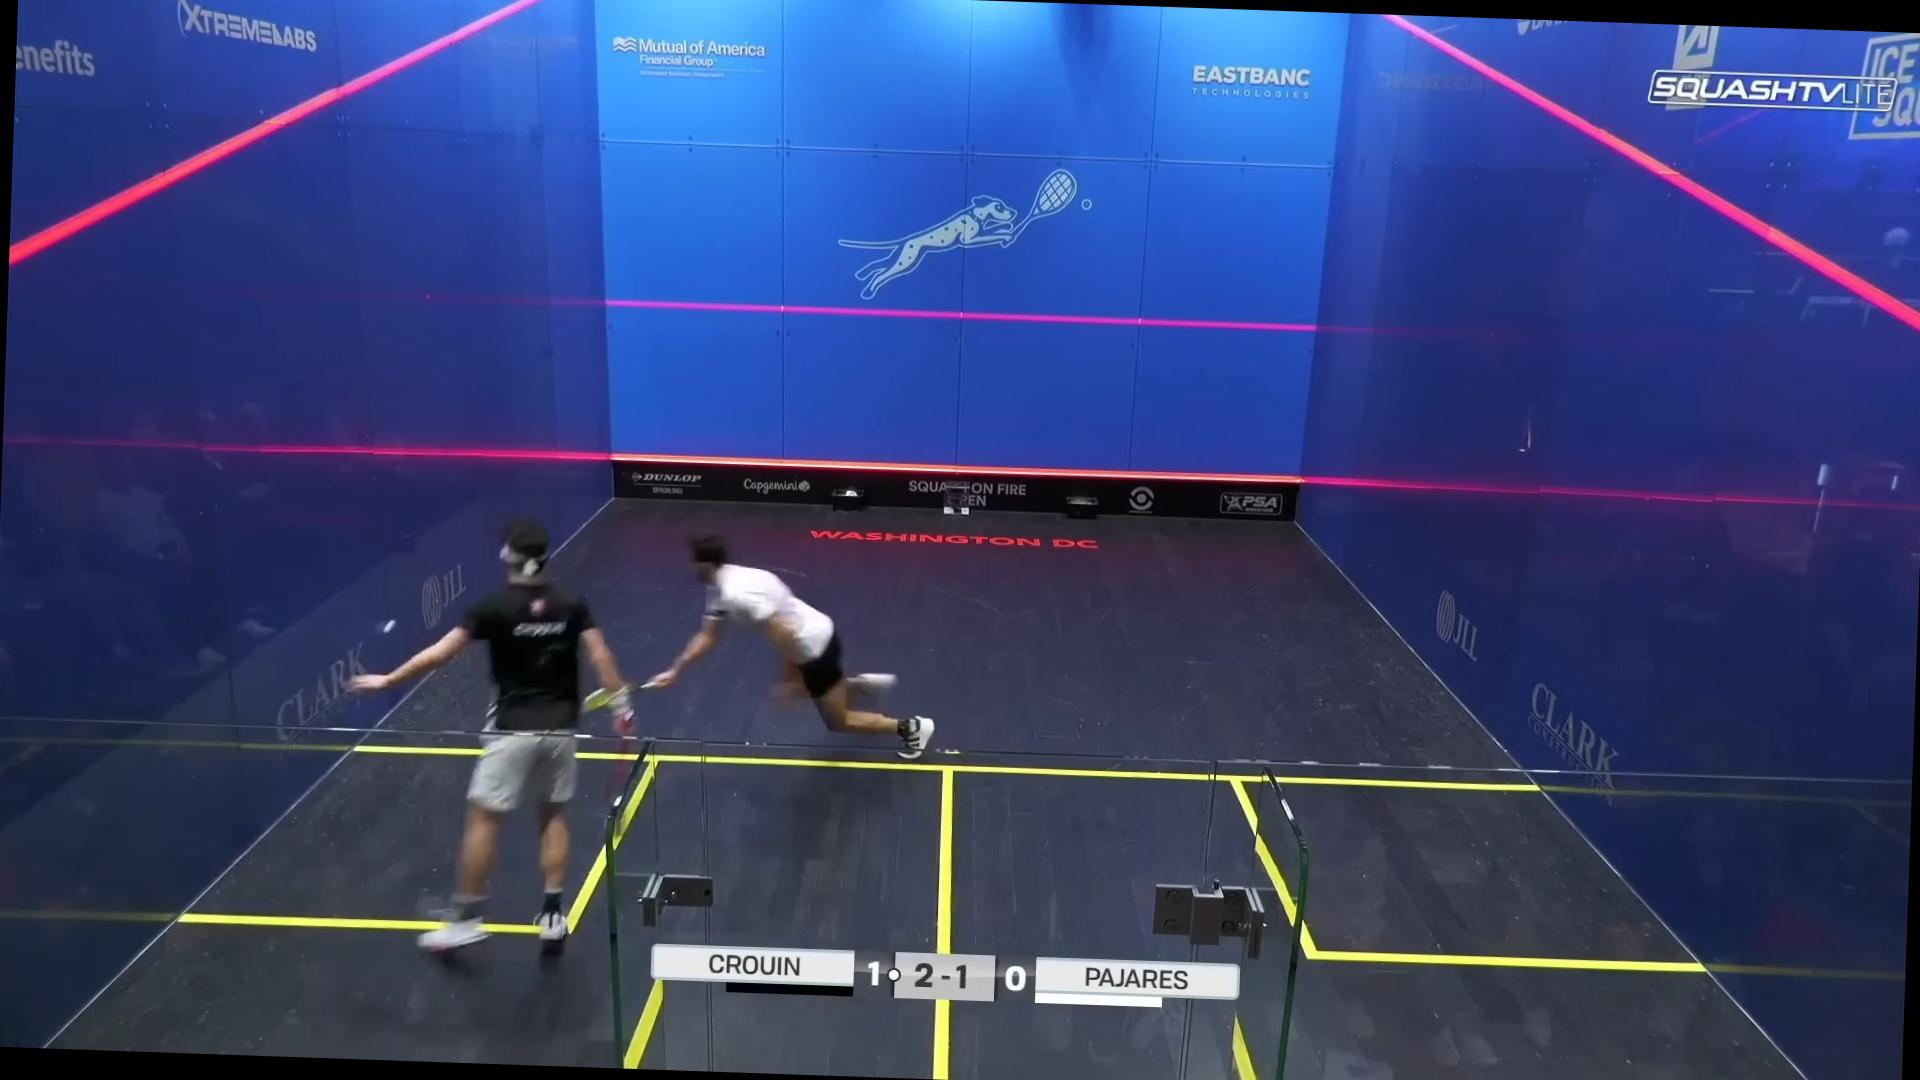Squash-Ball: (365, 611, 411, 647)
